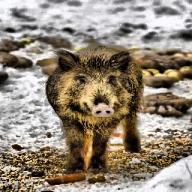boar: (44, 44, 144, 174)
